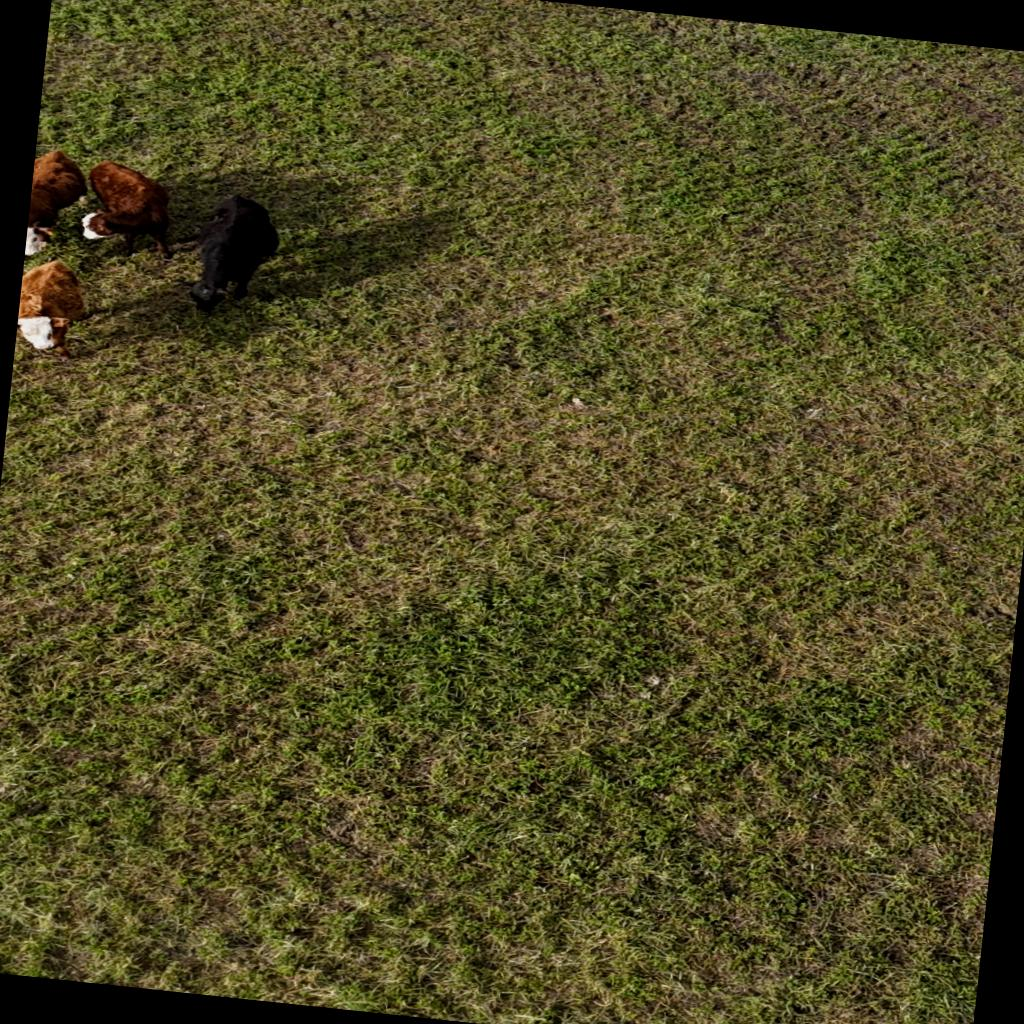cow: (183, 189, 282, 315), (74, 156, 185, 266), (14, 254, 98, 359), (24, 152, 81, 262)
